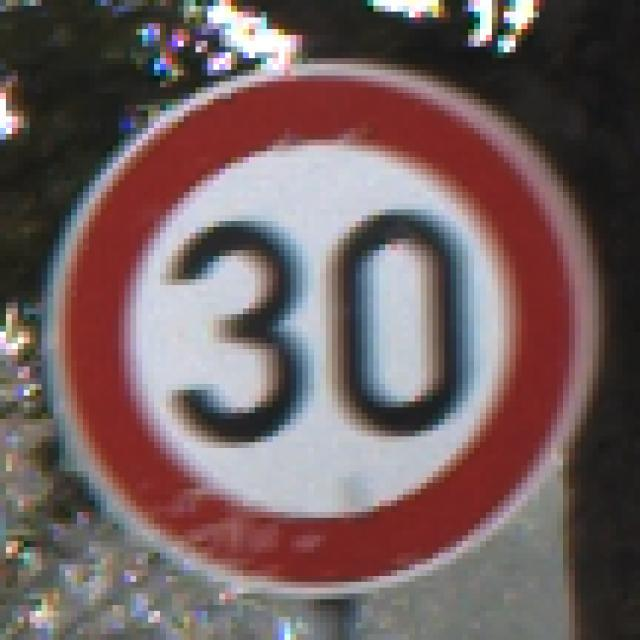speed limit 30: (45, 61, 607, 592)
